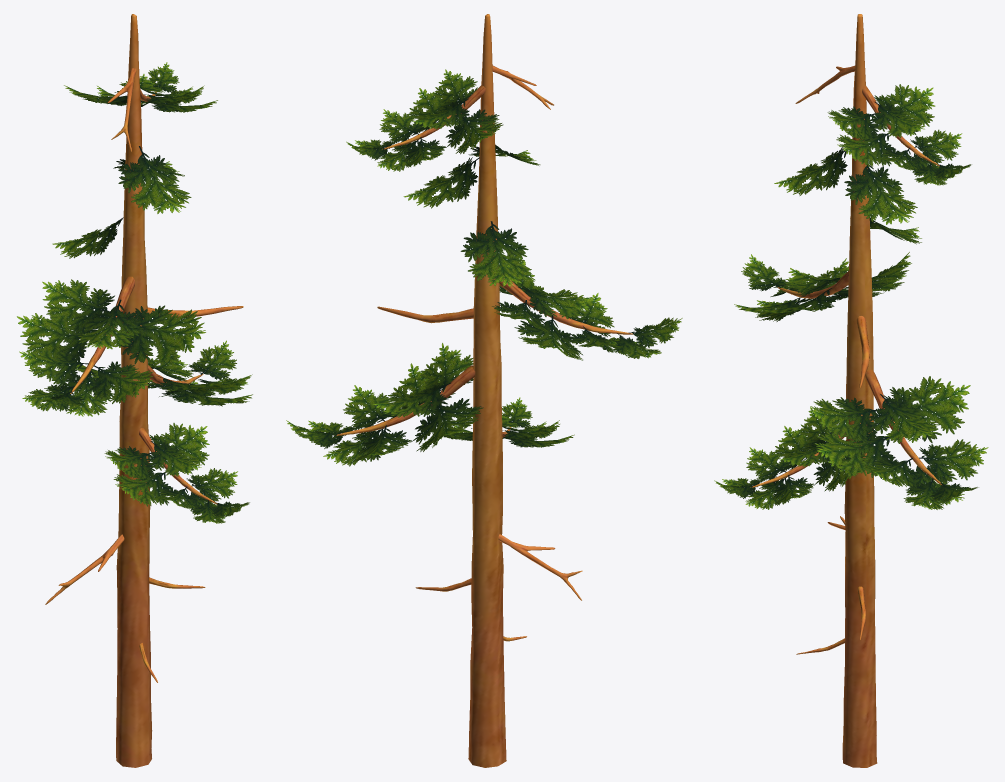
Rendered from small_stylized_pine_var1.glb.
3 renders of one model, left to right at view 1: azimuth 30°, elevation 25°; view 2: azimuth 150°, elevation 25°; view 3: azimuth 270°, elevation 25°, orthographic.
Visible parts, largest first — view 1: small_stylized_pine_var1; view 2: small_stylized_pine_var1; view 3: small_stylized_pine_var1.
Boxes of the visible parts, <box> form: small_stylized_pine_var1: <box>17,14,252,767</box>; small_stylized_pine_var1: <box>286,14,682,767</box>; small_stylized_pine_var1: <box>714,14,988,767</box>.
Bounding box in the file's own units: 346 × 830 × 280.
Materials: 2 (2 with a texture image).
